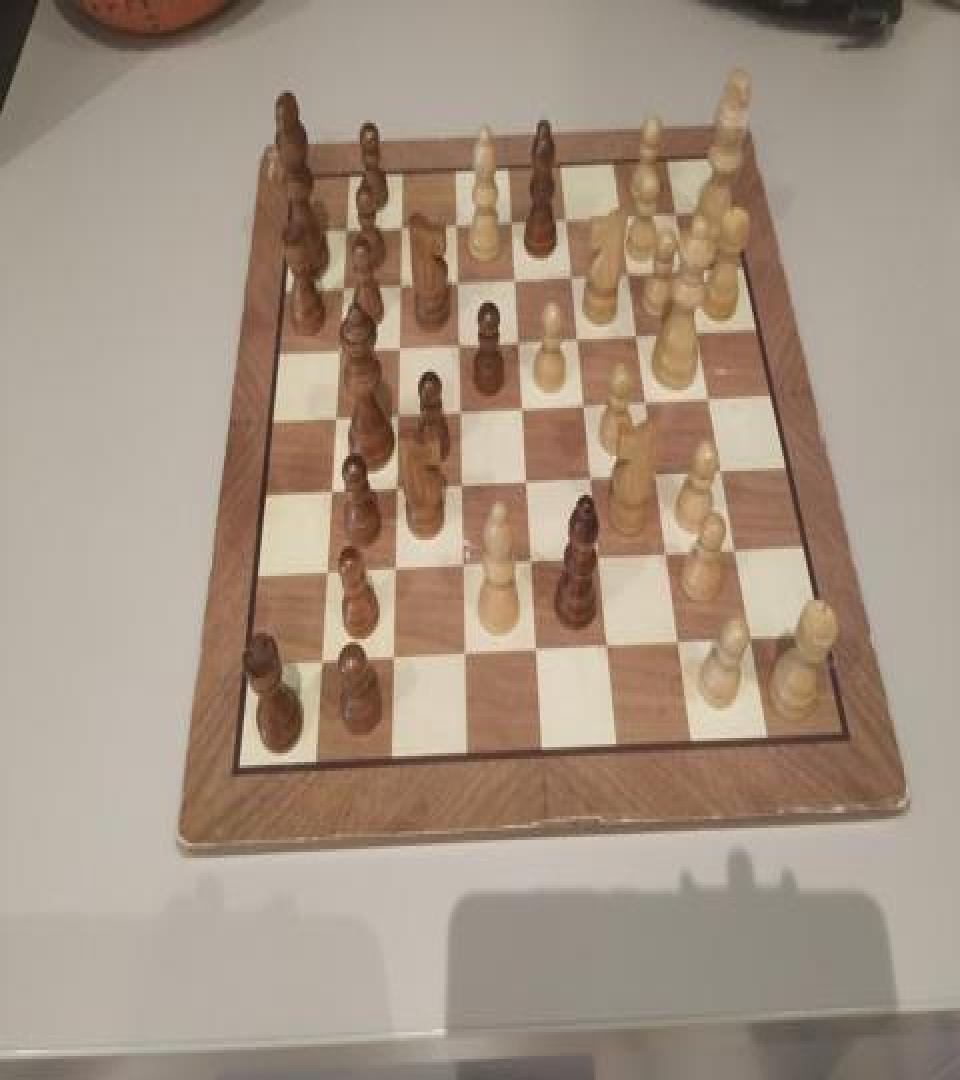xcorner: (583, 466, 601, 494), (713, 460, 731, 488), (388, 334, 406, 362), (509, 328, 527, 356), (331, 274, 349, 302), (620, 262, 638, 290), (390, 214, 408, 242), (667, 202, 685, 230), (310, 651, 328, 678), (383, 647, 401, 674), (528, 639, 546, 666), (600, 634, 618, 661), (743, 627, 761, 654), (315, 561, 333, 588), (385, 558, 403, 585), (522, 551, 540, 578), (659, 543, 677, 570), (727, 540, 745, 567), (320, 480, 338, 507), (386, 477, 404, 504), (452, 474, 470, 501), (518, 470, 536, 497), (324, 405, 342, 432), (387, 402, 405, 429), (450, 399, 468, 426), (513, 396, 531, 423), (576, 393, 594, 420), (638, 390, 656, 417), (700, 387, 718, 414), (449, 331, 467, 358), (569, 327, 587, 354), (629, 324, 647, 351), (688, 321, 706, 348), (447, 270, 465, 297), (505, 267, 523, 294), (563, 264, 581, 291), (334, 217, 352, 244), (446, 212, 464, 239), (501, 210, 519, 237), (557, 207, 575, 234), (456, 644, 474, 670), (671, 632, 689, 658), (454, 554, 472, 580), (591, 548, 609, 574), (648, 464, 666, 490), (327, 338, 345, 364), (389, 272, 407, 298), (677, 260, 695, 286), (612, 206, 630, 232)
